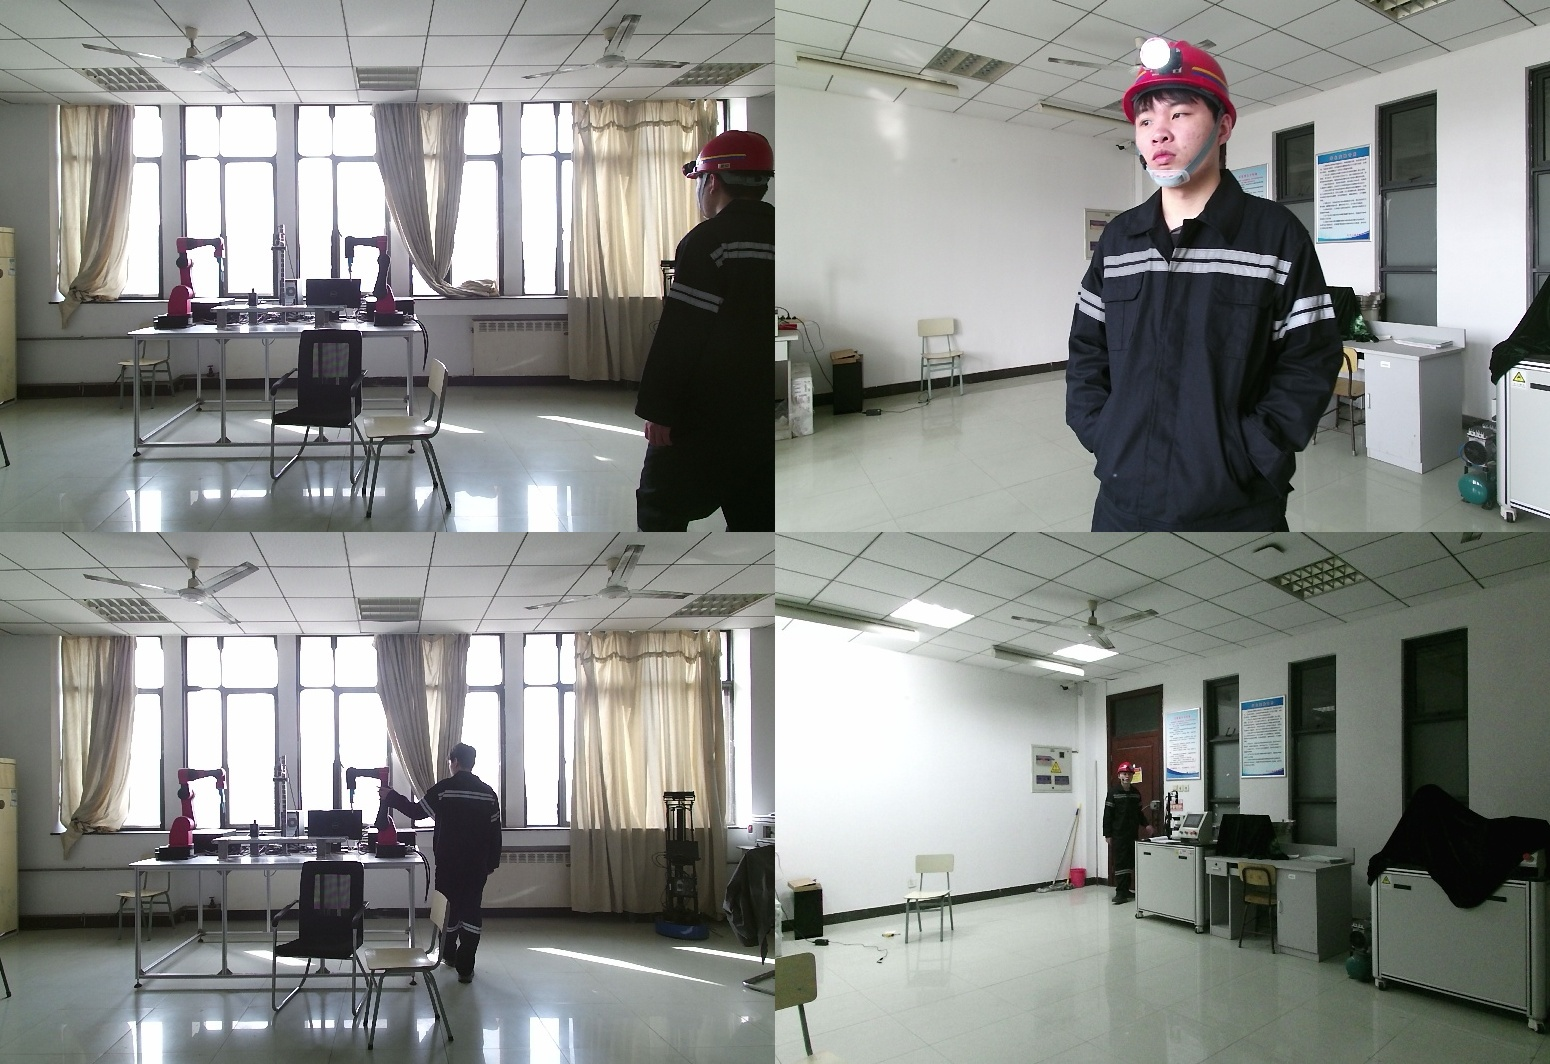person: (1076, 51, 1377, 532), (636, 131, 775, 532), (390, 747, 508, 982), (1100, 760, 1145, 906)
